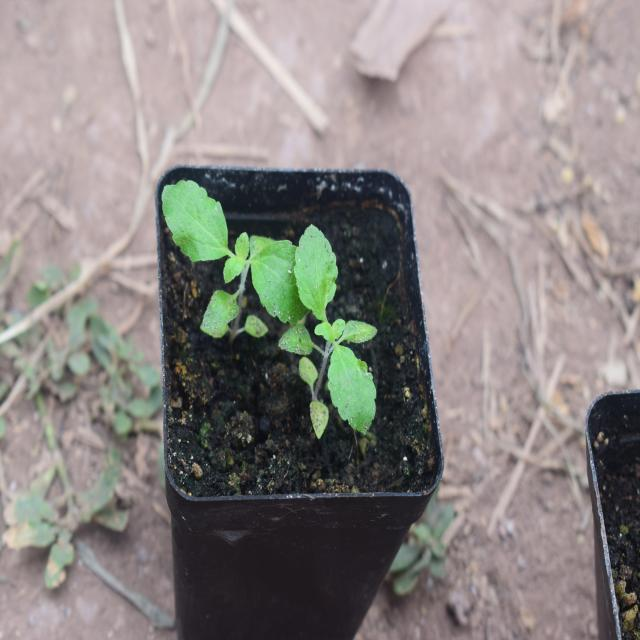billygoat_weed: (167, 184, 309, 358), (293, 215, 392, 453)
